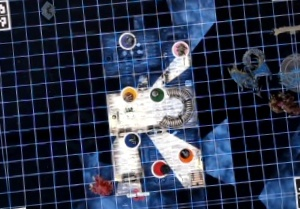blue: (120, 130, 141, 151)
green: (146, 85, 168, 105)
orange: (176, 145, 195, 165)
pink: (168, 36, 190, 59)
red: (148, 157, 169, 179)
violet: (116, 30, 138, 52)
yellow: (117, 83, 137, 104)
